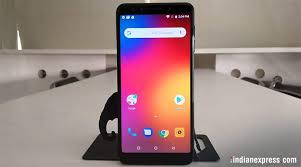lenovo: (116, 1, 196, 167)
